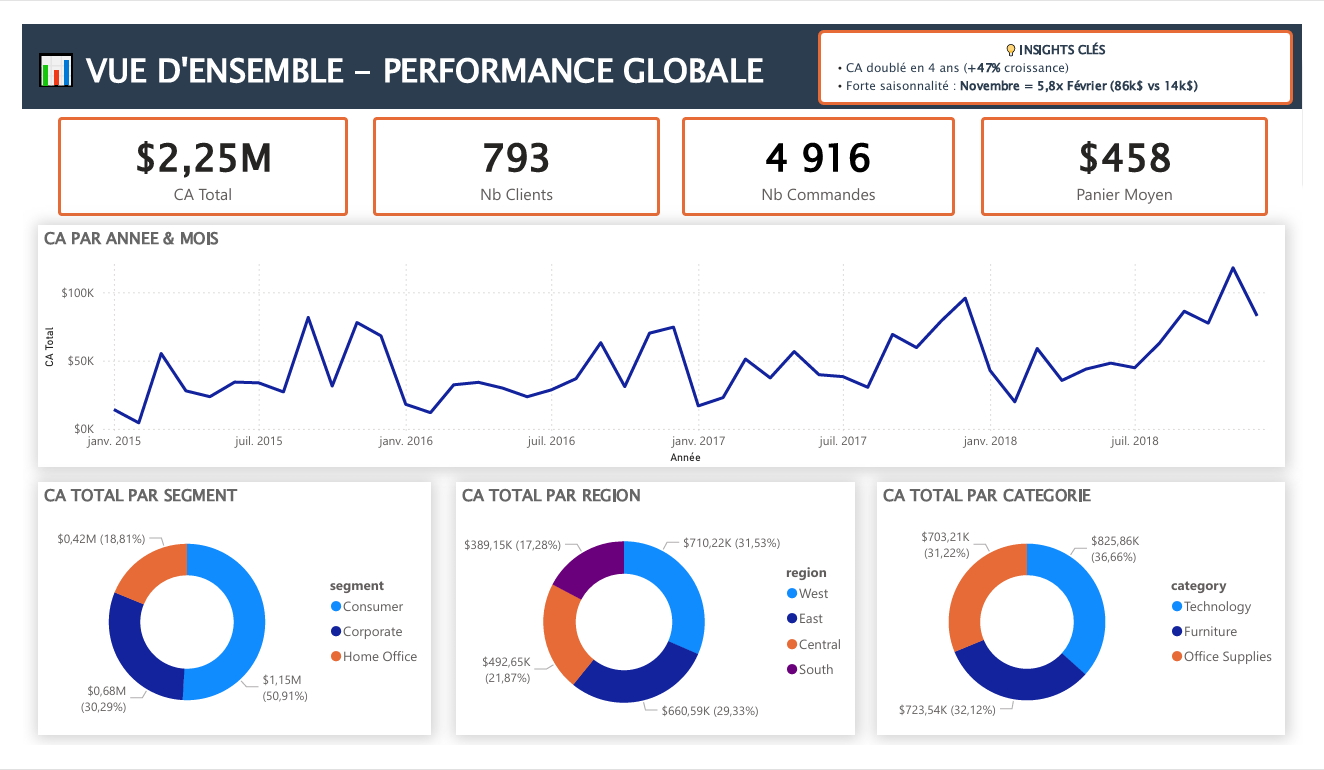

The dashboard page shown, as its layout file describes it:
{"tool":"powerbi","page":{"name":"Vue d'ensemble","canvas":[1280,720],"ordinal":1},"visuals":[{"type":"card","fields":{"Values":["MESURE.CA Total"]},"box":[35,92.4,289.8,98.2],"z":0},{"type":"card","fields":{"Values":["MESURE.Nb Clients"]},"box":[350.2,92.4,286.9,98.2],"z":1000},{"type":"card","fields":{"Values":["MESURE.Nb Commandes"]},"box":[659.5,92.4,272.3,98.2],"z":2000},{"type":"card","fields":{"Values":["MESURE.Panier Moyen"]},"box":[958.1,92.4,286.9,98.2],"z":3000},{"type":"lineChart","title":"CA PAR ANNEE & MOIS","fields":{"Y":["Mesure 1.CA Total"],"Category":["fact_order_item.order_date.Variation.Hiérarchie de dates.Année","fact_order_item.order_date.Variation.Hiérarchie de dates.Mois"]},"box":[16,201,1247,242],"z":4000},{"type":"donutChart","title":"CA TOTAL PAR SEGMENT","fields":{"Category":["dim_customer.segment"],"Y":["Mesure 1.CA Total"]},"box":[16,458,393,253],"z":5000},{"type":"donutChart","title":"CA TOTAL PAR REGION","fields":{"Category":["dim_location.region"],"Y":["Mesure 1.CA Total"]},"box":[434,458,399,253],"z":6000},{"type":"donutChart","title":"CA TOTAL PAR CATEGORIE","fields":{"Category":["dim_product.category"],"Y":["Mesure 1.CA Total"]},"box":[855,458,408,253],"z":7000},{"type":"textbox","box":[0,0,1280,84.6],"z":8000},{"type":"textbox","box":[795.4,5.3,474.4,74.5],"z":9000}]}

Visuals, with their boxes on the page's 1280x720 design canvas (x1, y1, x2, y2). These are canvas units, not pixel positions in the 1324x770 screenshot, which may show the page scaled, cropped or inside an application window:
card - MESURE.CA Total: bbox=(35, 92, 325, 191)
card - MESURE.Nb Clients: bbox=(350, 92, 637, 191)
card - MESURE.Nb Commandes: bbox=(660, 92, 932, 191)
card - MESURE.Panier Moyen: bbox=(958, 92, 1245, 191)
"CA PAR ANNEE & MOIS" lineChart: bbox=(16, 201, 1263, 443)
"CA TOTAL PAR SEGMENT" donutChart: bbox=(16, 458, 409, 711)
"CA TOTAL PAR REGION" donutChart: bbox=(434, 458, 833, 711)
"CA TOTAL PAR CATEGORIE" donutChart: bbox=(855, 458, 1263, 711)
textbox: bbox=(0, 0, 1280, 85)
textbox: bbox=(795, 5, 1270, 80)
